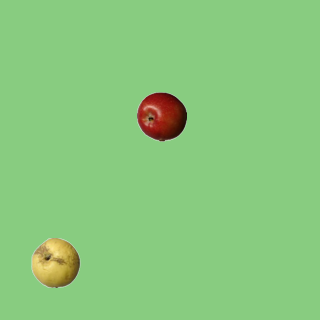Apple Braeburn: (136, 91, 186, 141)
Apple Golden 1: (30, 237, 80, 287)
